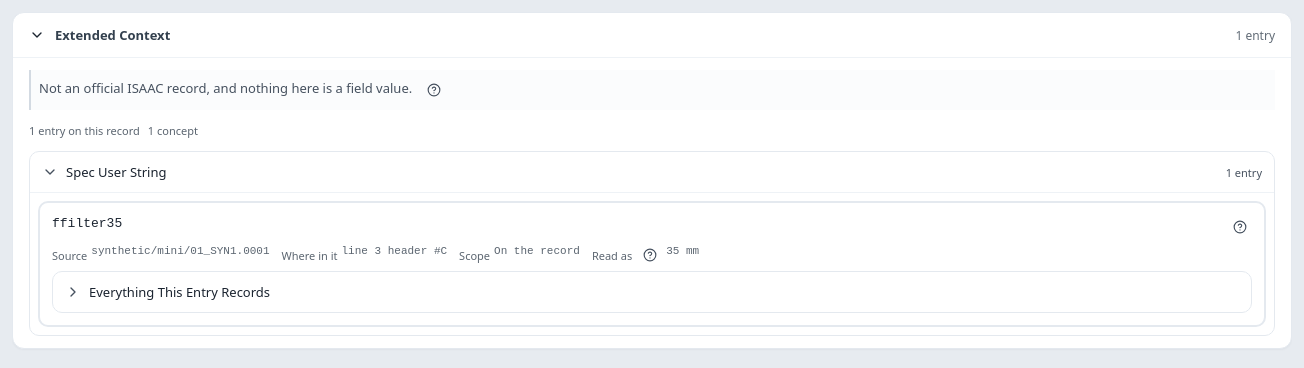
it: the default reading is the scientist’s words, and nothing is lost › a normalisation rule id is one `?` away inside the SAME pair, not in the visible label
The image size is (1304, 368).
Expected: the text "35 mm" is shown, [666,245,699,257]
Expected: the text "bl15.filter_index_v1" is not shown
Click the button named "Which Rule Read This" at point(650, 255), box [638,243,662,267]
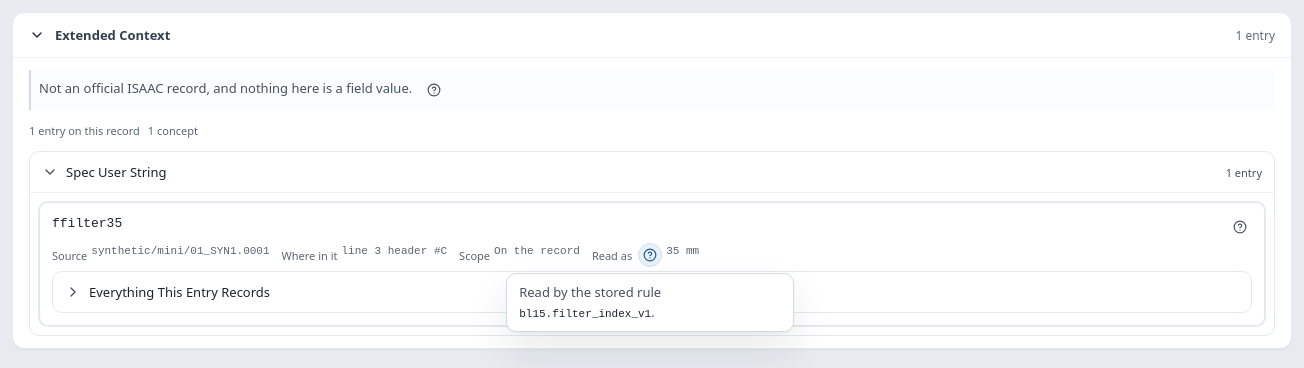
Result: the text "bl15.filter_index_v1" is shown at [519,308,651,320]
